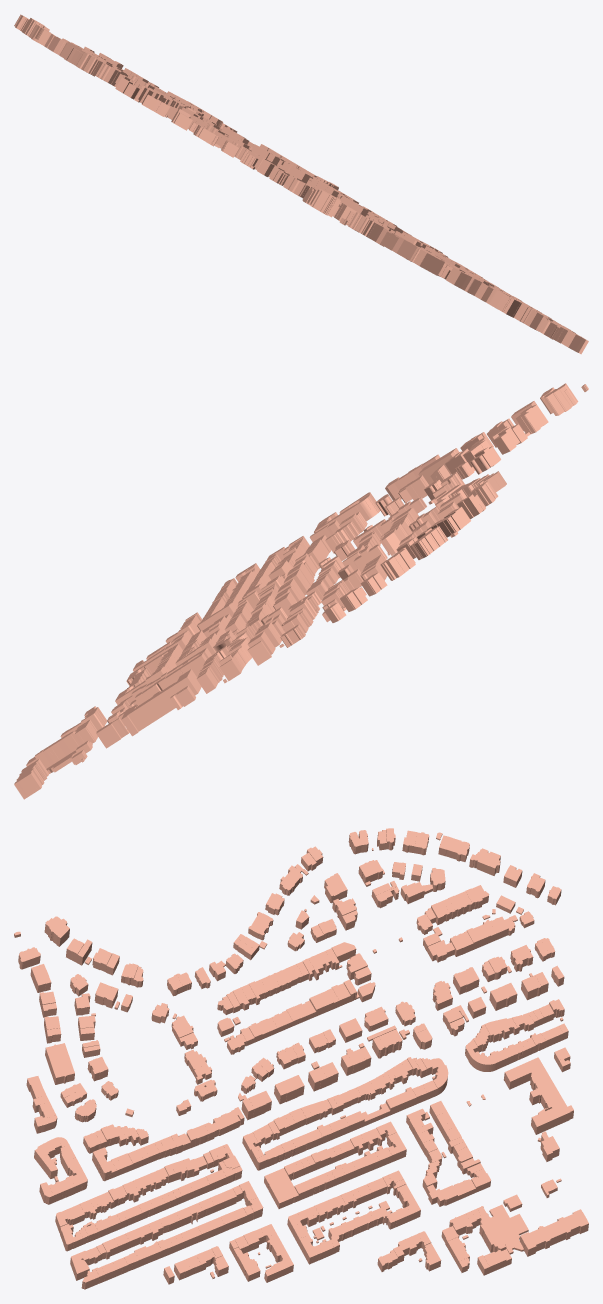
3 renders of one model, top to bottom at view 1: azimuth 30°, elevation 25°; view 2: azimuth 150°, elevation 25°; view 3: azimuth 270°, elevation 25°, orthographic. The views are drawn at different scales.
Size of the model in its own units: 486 by 352 by 638.
